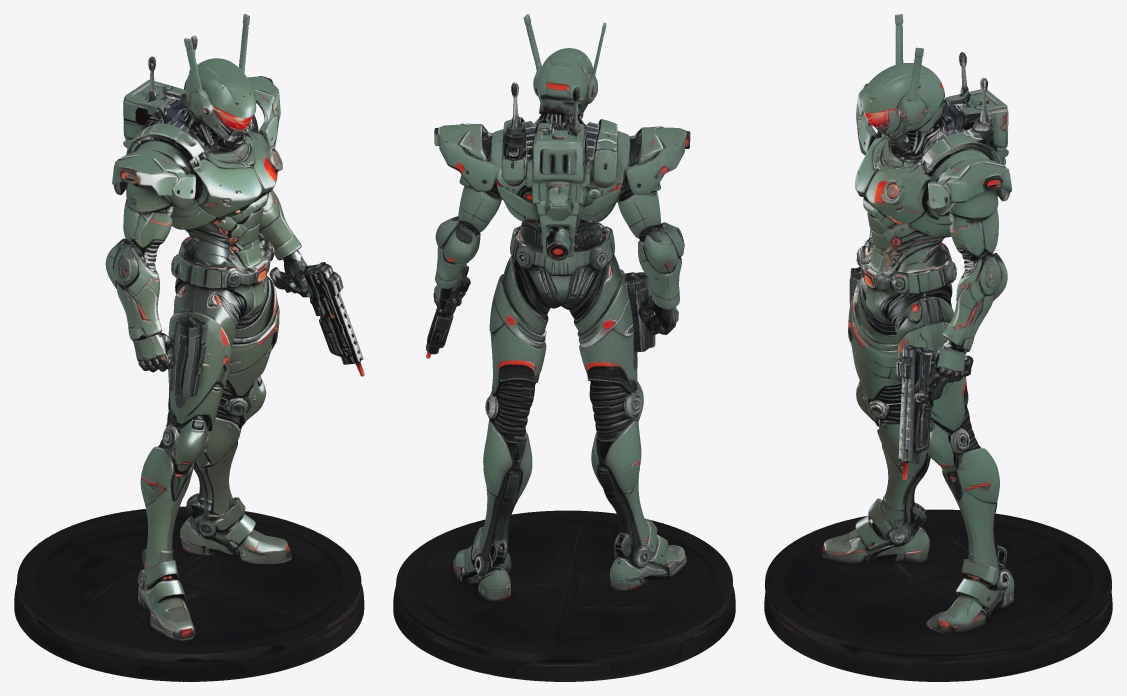
File: 螳螂机器人-谢青源 徐银沣 姚博然.glb
3 renders of one model, left to right at view 1: azimuth 30°, elevation 25°; view 2: azimuth 150°, elevation 25°; view 3: azimuth 270°, elevation 25°, orthographic. The views are drawn at different scales.
Size of the model in its own units: 1.04 by 1.9 by 1.03.
Materials: 1 (1 with a texture image).
